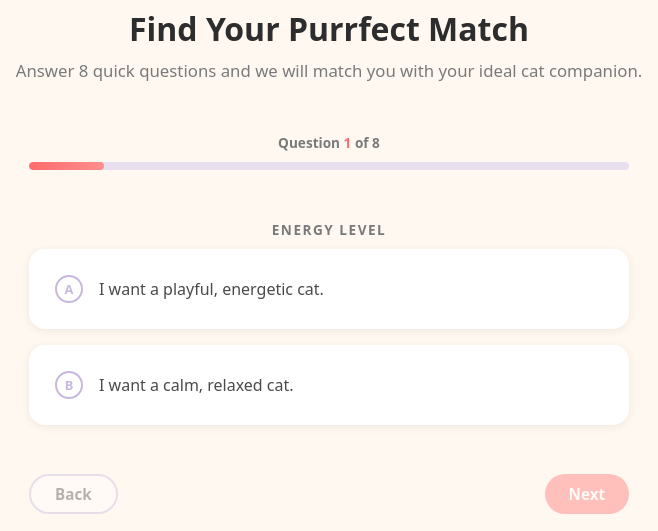
QuestionnaireForm › navigates backward to the previous question
# Go to question 2
Click the text "I want a playful, energetic cat.".
click(211, 289)  # box top-left (99, 278), bottom-right (324, 300)
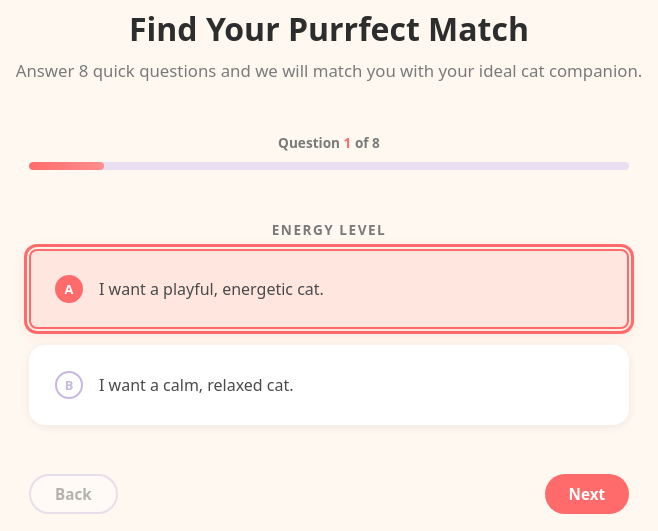
Click the button "Next".
click(587, 494)  # box top-left (545, 474), bottom-right (629, 514)
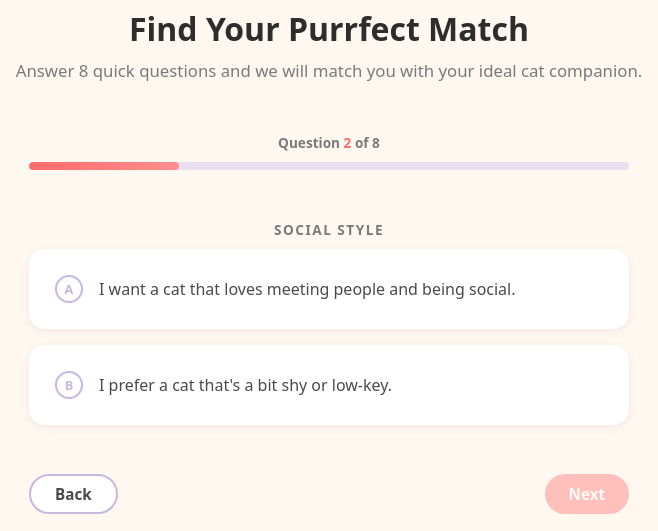
Now the text "Social Style" is shown, box top-left (274, 220), bottom-right (384, 239)
#  Go back
Click the button "Back".
click(73, 494)  # box top-left (29, 474), bottom-right (118, 514)
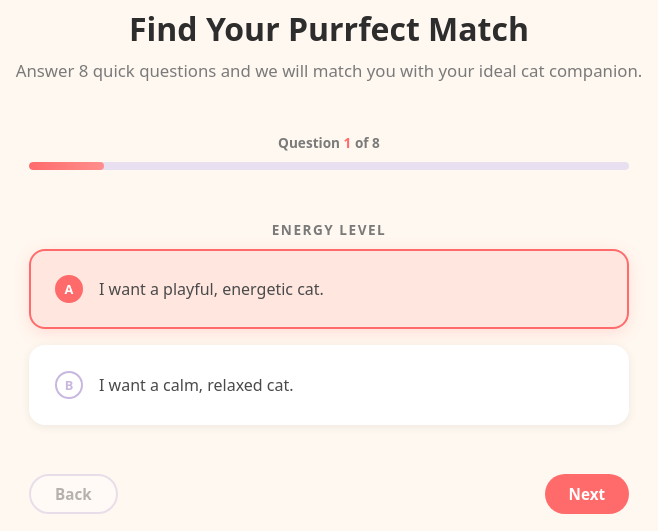
Now the text "Energy Level" is shown, box top-left (272, 220), bottom-right (386, 239)
